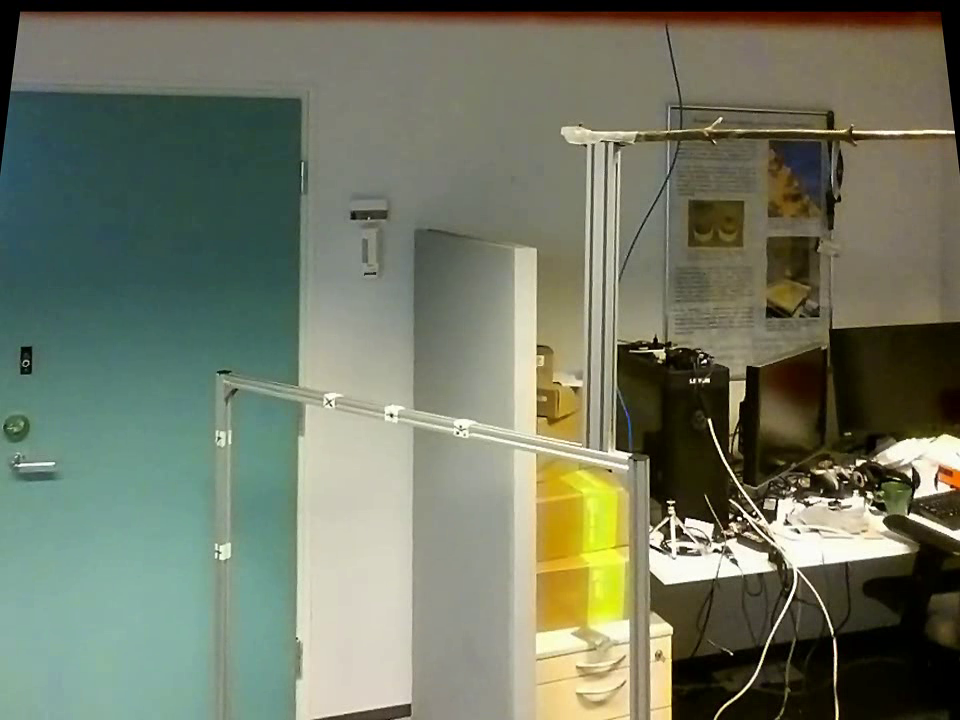aluminum_frame: (224, 359, 623, 471), (578, 144, 624, 456), (209, 360, 236, 719), (620, 446, 654, 716)
branch: (640, 112, 957, 151)
